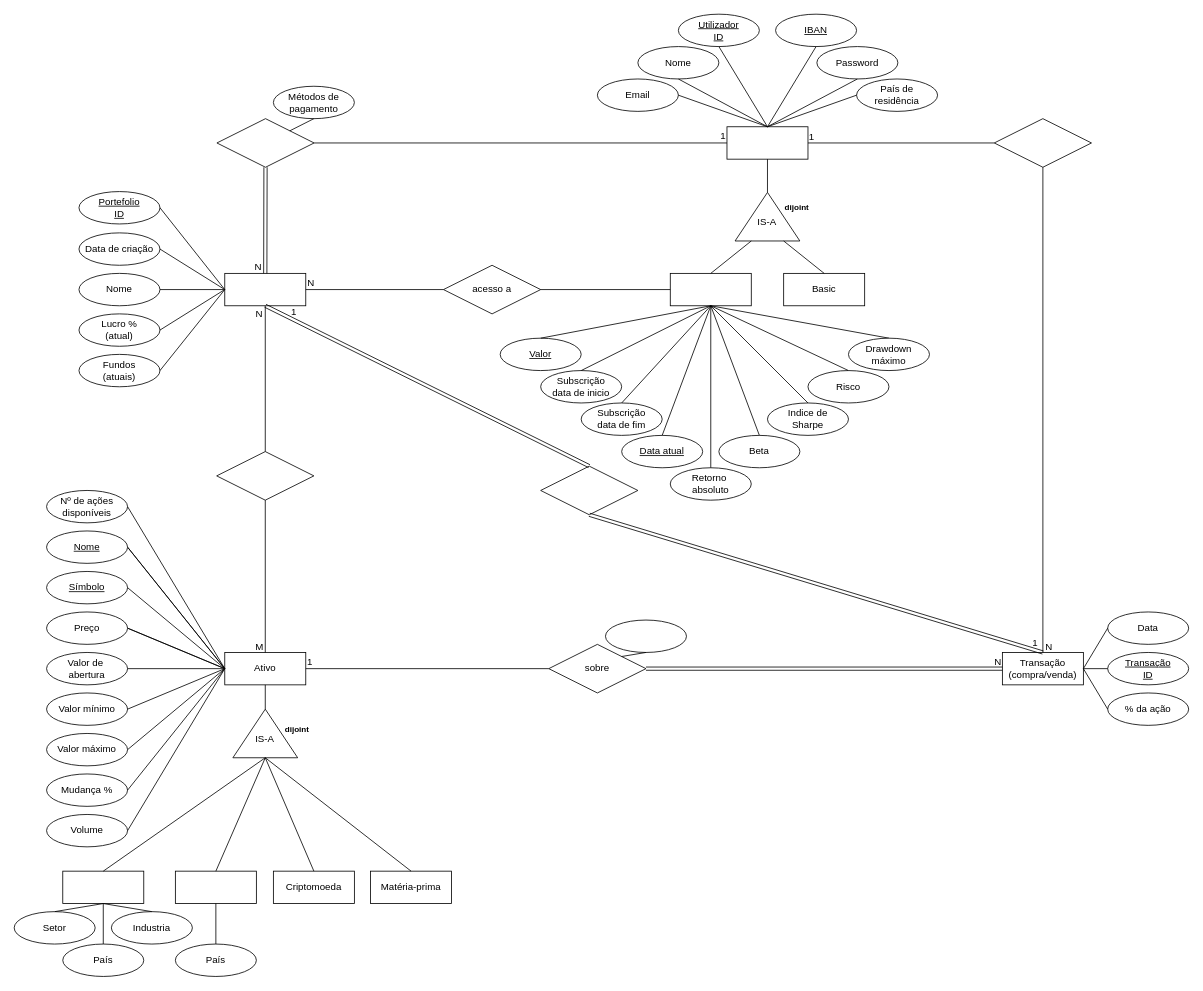
This 1203x991 diagram has some shape labels left out. The centre of each missing label's shape, as x and y in pixels:
"Ativo alvo" belongs at [645,635].
"atualiza" belongs at [589,490].
"contém" belongs at [265,475].
"deposita fundos" belongs at [265,142].
"Empresa" belongs at [103,887].
"Indice" belongs at [215,887].
"Portefolio" belongs at [265,289].
"Premium" belongs at [710,289].
"realiza" belongs at [1042,142].
"Utilizador" belongs at [767,142].
